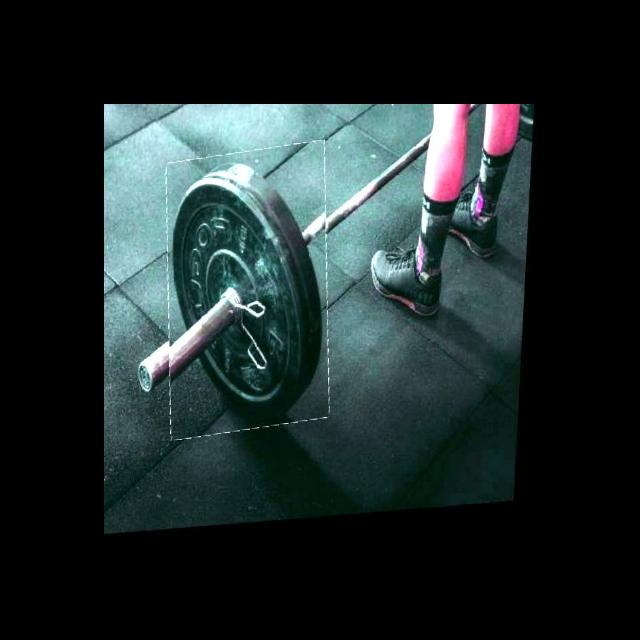barbell: (160, 145, 339, 441)
